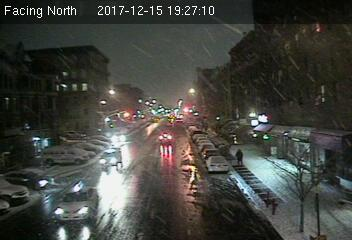car: (55, 182, 98, 222), (99, 147, 123, 168), (207, 156, 228, 173), (157, 131, 172, 144)
pedestrian: (234, 149, 246, 167)
